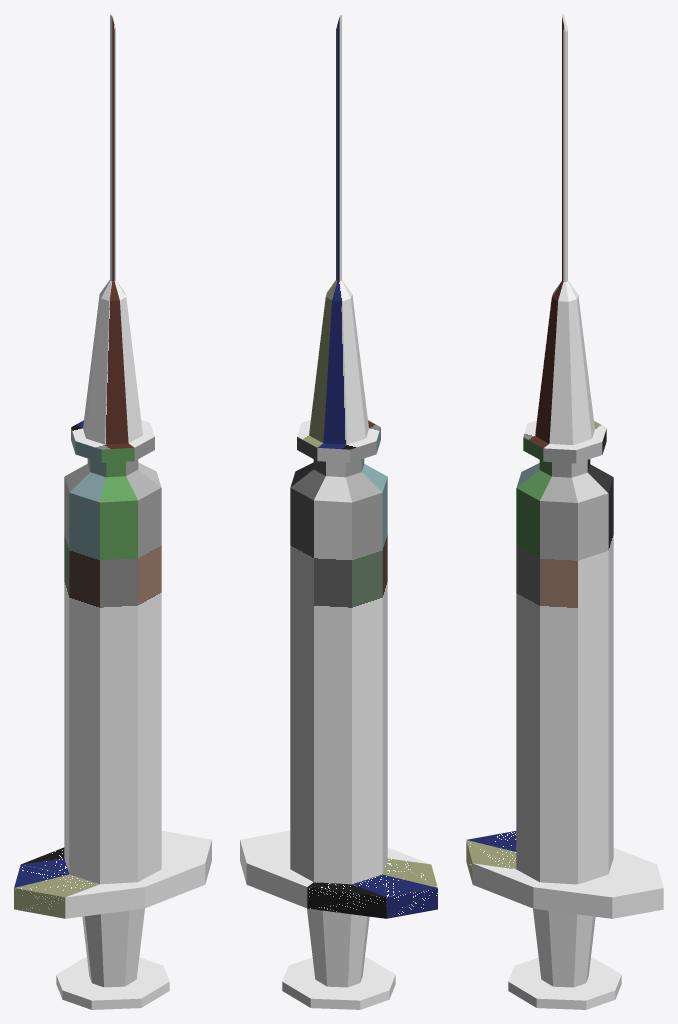
The model's file is Syringe.fbx.
The picture shows the model from 3 angles, left to right: view 1: azimuth 30°, elevation 25°; view 2: azimuth 150°, elevation 25°; view 3: azimuth 330°, elevation 25°; orthographic projection.
Visible parts, largest first — view 1: Cylinder.005; view 2: Cylinder.005; view 3: Cylinder.005.
Part boxes in pixels (box(x1,y1,x2,y2)): Cylinder.005: box(14, 15, 211, 1009); Cylinder.005: box(240, 15, 437, 1009); Cylinder.005: box(466, 14, 663, 1009).
Bounding box in the file's own units: 6 × 28.22 × 3.33.
